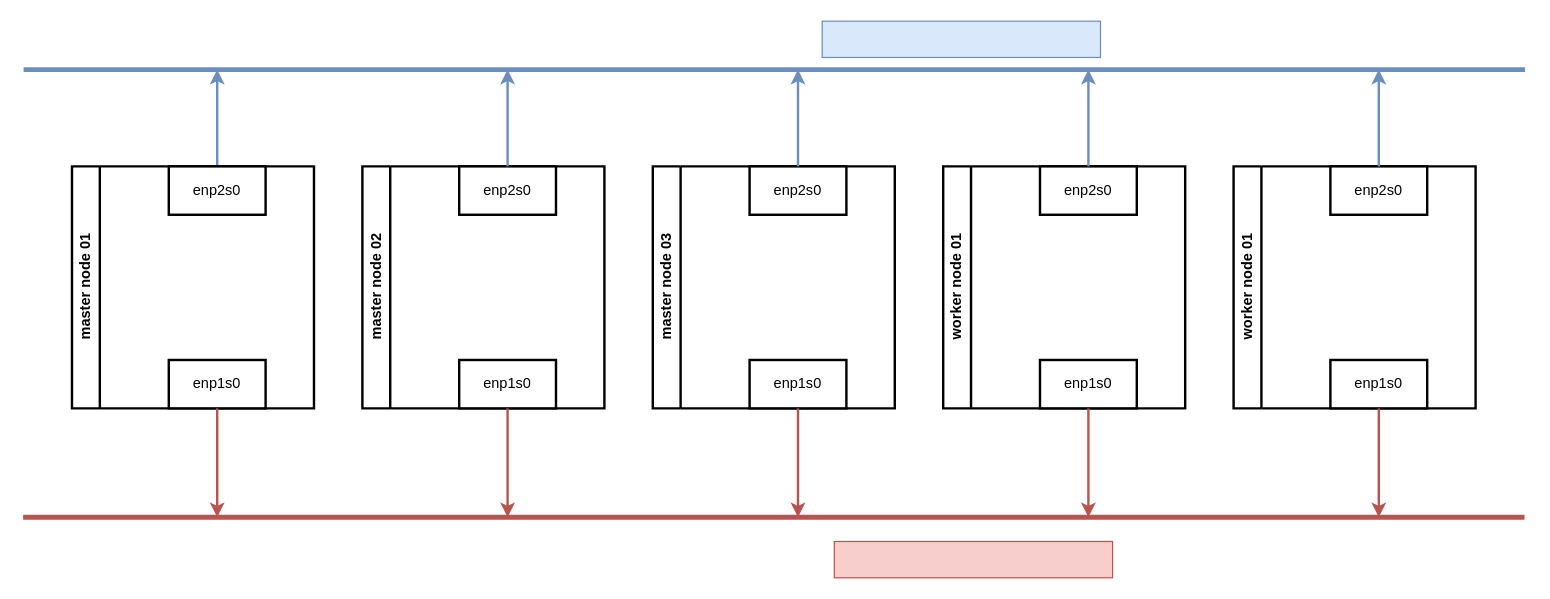
Some shapes in this 1550 by 599 pixel diagram are drawn without their labels. The shapes that lost their labels are listed below. From the top down, each one's centre as x and y in pixels, then its label:
At pixel 960 38: "service network".
At pixel 973 559: "default / infra network".
